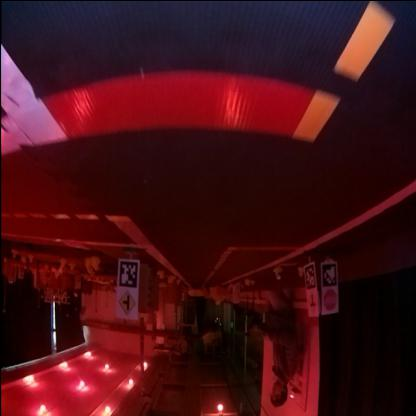Duckie: (91, 256, 100, 271), (273, 267, 282, 280), (84, 261, 92, 269), (298, 266, 304, 276), (68, 262, 75, 270), (170, 274, 176, 282), (158, 271, 164, 278), (176, 277, 180, 285), (249, 280, 254, 285)
Intersection sign: (119, 290, 136, 315), (308, 292, 317, 314)
QR code: (119, 261, 137, 288), (322, 263, 336, 287), (304, 264, 316, 288)
Stop sign: (324, 290, 336, 312)
